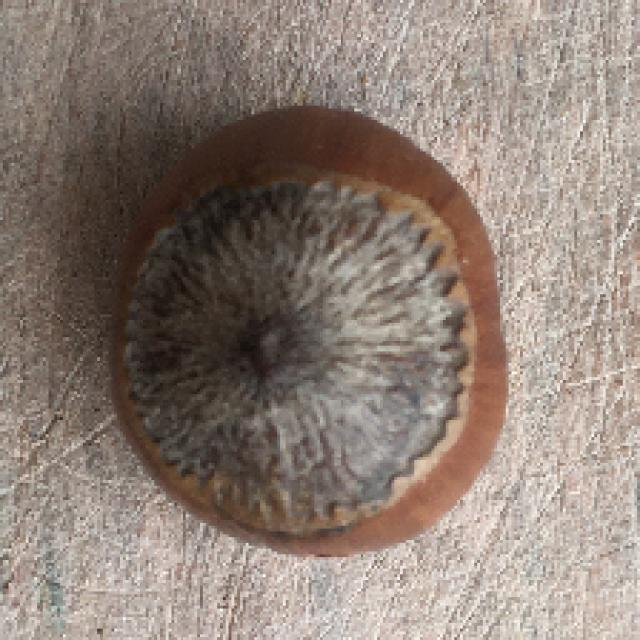DamagedHazelnut: (104, 101, 519, 554)
